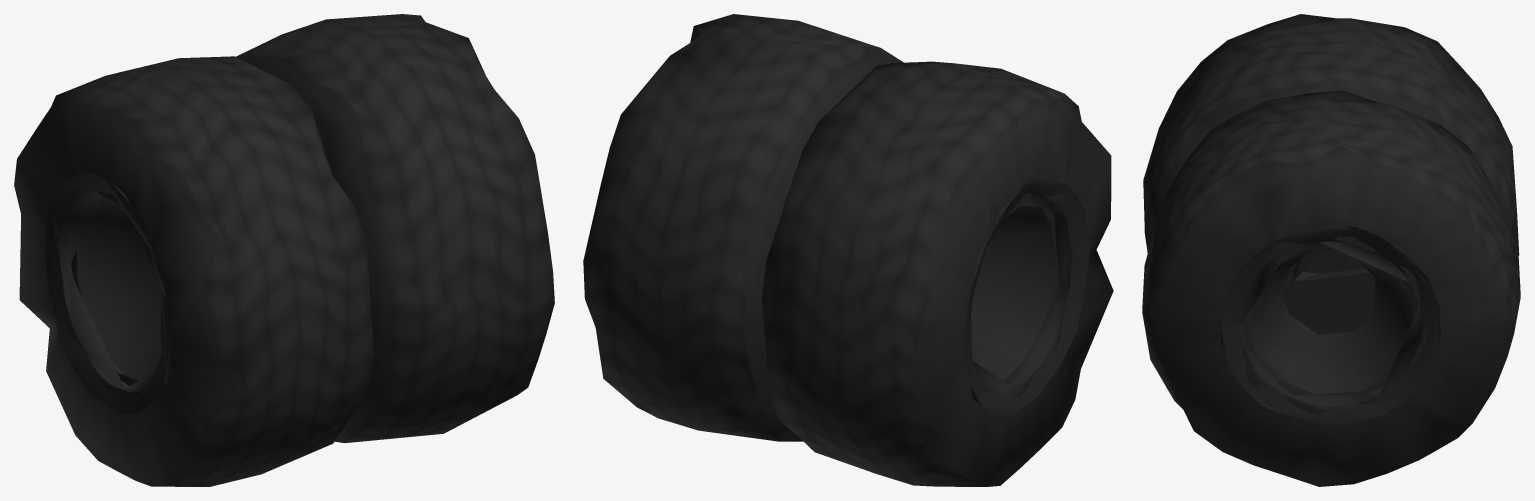
File: TW_wheel_rear_d1.obj
3 renders of one model, left to right at view 1: azimuth 30°, elevation 25°; view 2: azimuth 150°, elevation 25°; view 3: azimuth 270°, elevation 25°, orthographic. The views are drawn at different scales.
Visible parts, largest first — view 1: TW_wheel_rear; view 2: TW_wheel_rear; view 3: TW_wheel_rear.
Boxes of the visible parts, <box> form: TW_wheel_rear: <box>14,14,554,486</box>; TW_wheel_rear: <box>583,14,1113,486</box>; TW_wheel_rear: <box>1142,14,1520,486</box>.
Size of the model in its own units: 1.07 by 1.09 by 1.1.
1 material, 1 textured.
